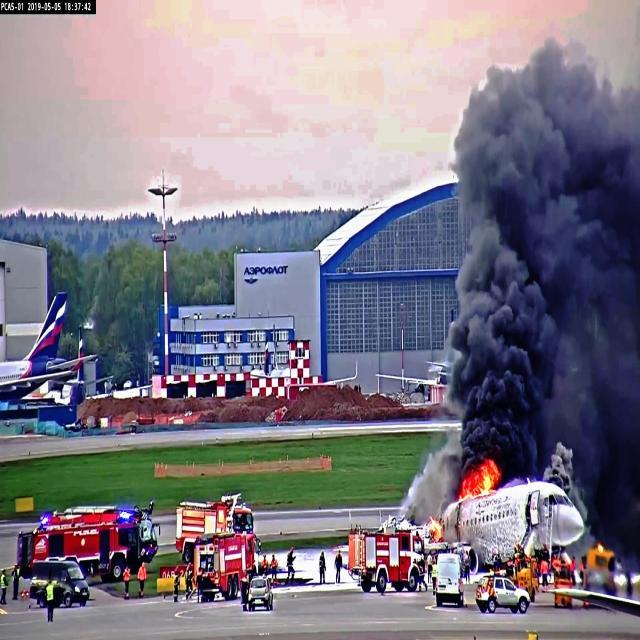Fire: (460, 464, 500, 510)
Smoke: (541, 43, 640, 453), (451, 75, 548, 442)
